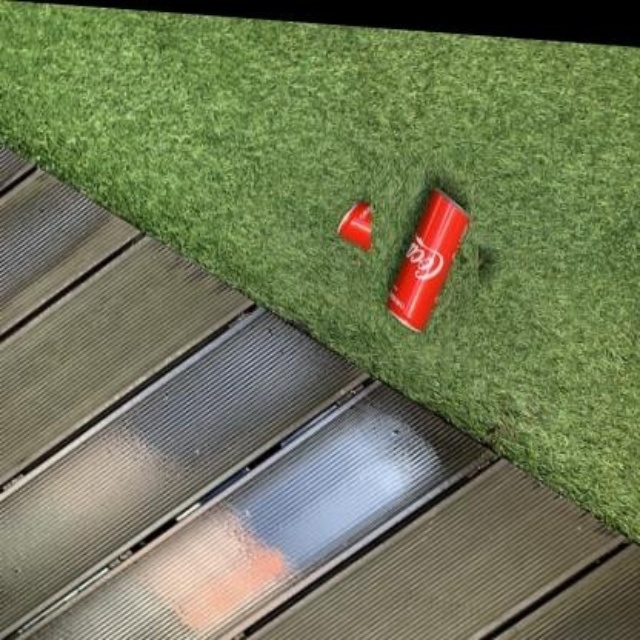trash: (386, 189, 466, 329), (337, 202, 371, 249)
